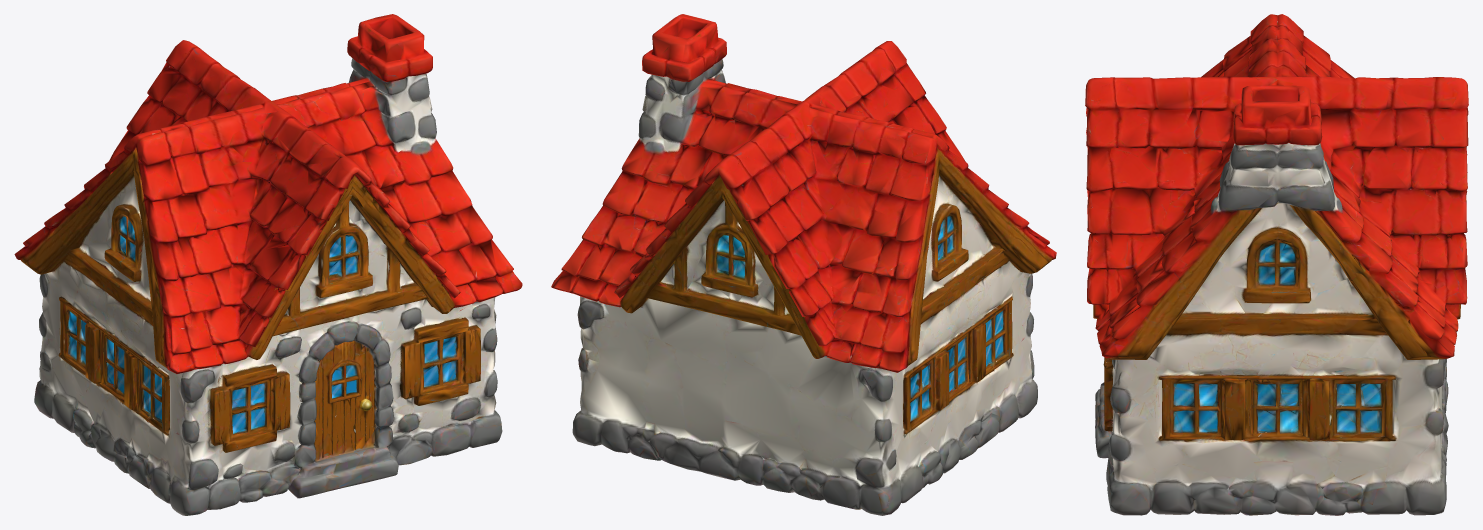
Rendered from house.glb.
The picture shows the model from 3 angles, left to right: view 1: azimuth 30°, elevation 25°; view 2: azimuth 150°, elevation 25°; view 3: azimuth 270°, elevation 25°; orthographic projection. The views are drawn at different scales.
Bounding box in the file's own units: 1.9 × 1.9 × 1.64.
1 material, 1 textured.
